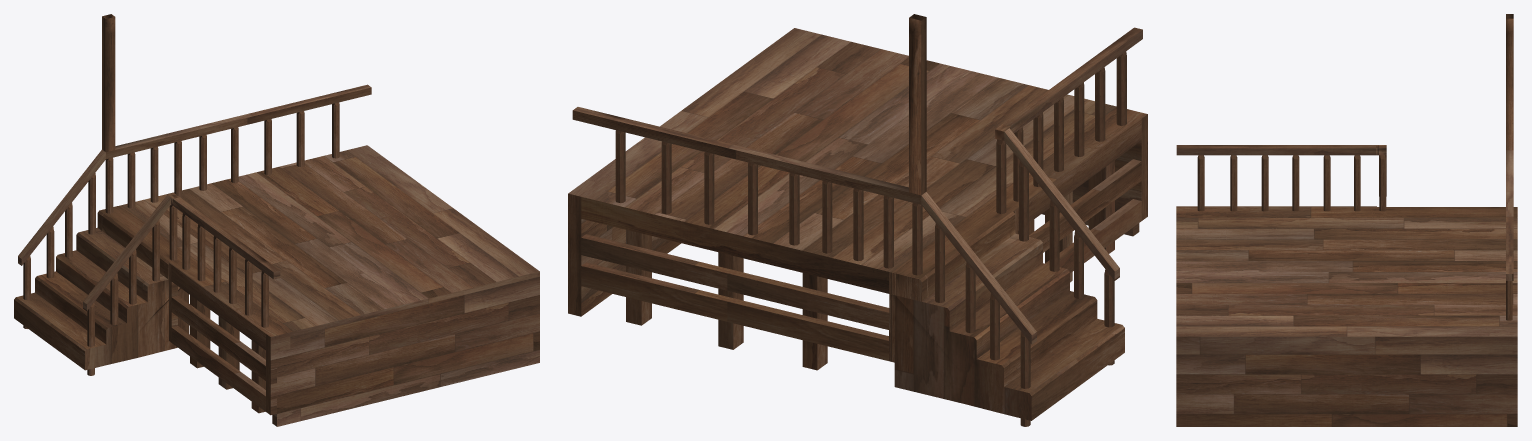
Rendered from porchStairs.fbx.
The picture shows the model from 3 angles, left to right: view 1: azimuth 30°, elevation 25°; view 2: azimuth 150°, elevation 25°; view 3: azimuth 270°, elevation 25°; orthographic projection. The views are drawn at different scales.
Parts seen in each view (by area): view 1: Cube.003; view 2: Cube.003; view 3: Cube.003.
Boxes of the visible parts, left/top/right/bottom form: Cube.003: left=14, top=14, right=539, bottom=426; Cube.003: left=568, top=14, right=1147, bottom=426; Cube.003: left=1176, top=14, right=1517, bottom=426.
Size of the model in its own units: 640 by 503 by 542.
Materials: 2 (2 with a texture image).
